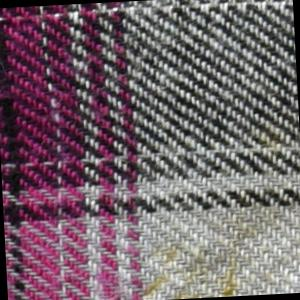Oil Stain: (131, 103, 300, 300)
